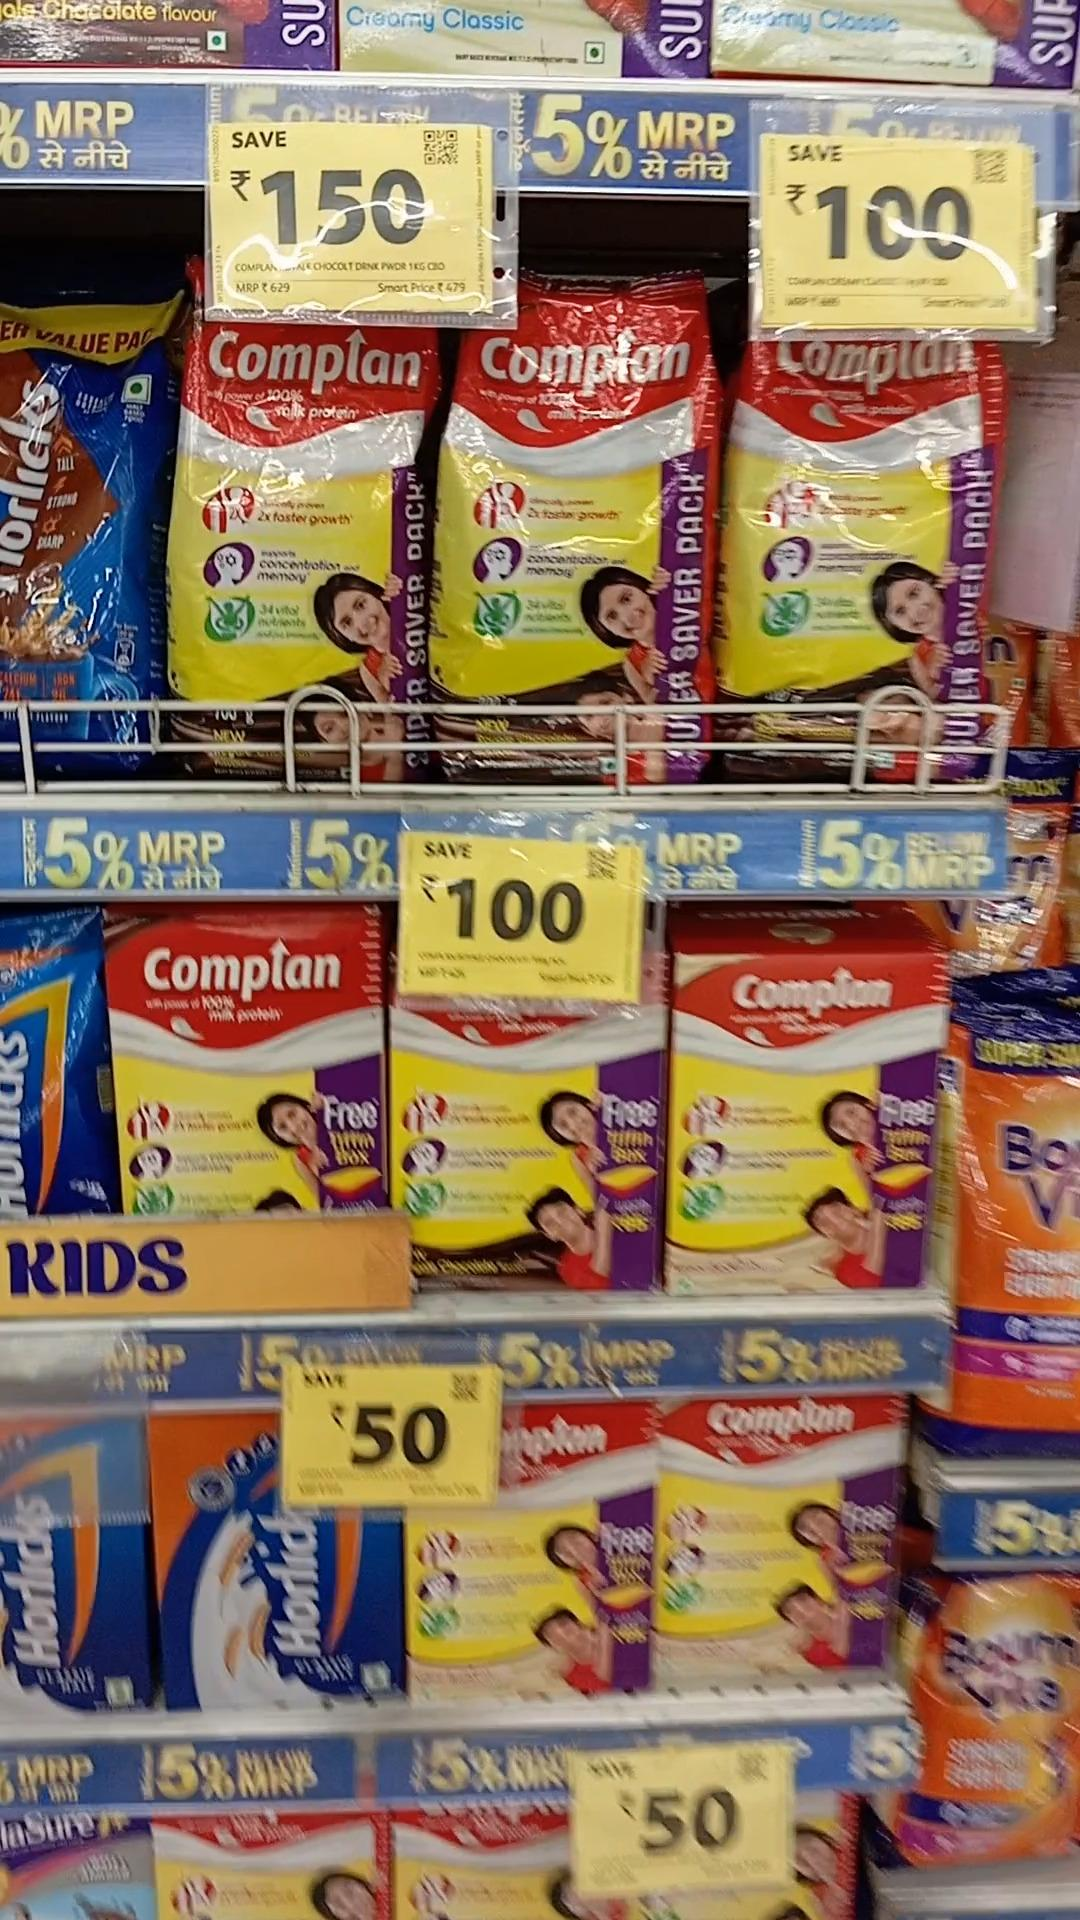COMPLAN_CHOCOLATE_500_GMS_PACK: (108, 905, 386, 1216), (394, 989, 657, 1287)
COMPLAN_KESAR_BADAM_500_GMS_PACK: (669, 959, 936, 1291), (406, 1410, 651, 1697), (662, 1396, 889, 1698)
COMPLAN_RC_POUCH_700_GMS_12: (436, 281, 708, 781), (178, 307, 429, 762), (719, 339, 965, 779)
HORLICK_CLASSIC_MALT_500_G_PACK: (171, 1420, 392, 1702)
